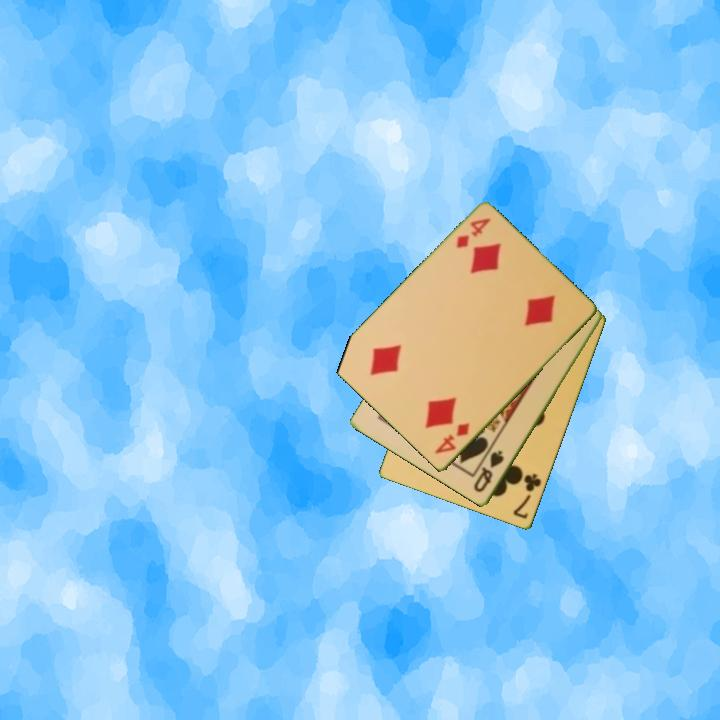4d: (431, 419, 473, 457), (452, 215, 494, 252)
7c: (510, 470, 544, 522)
Qs: (470, 447, 507, 496)
